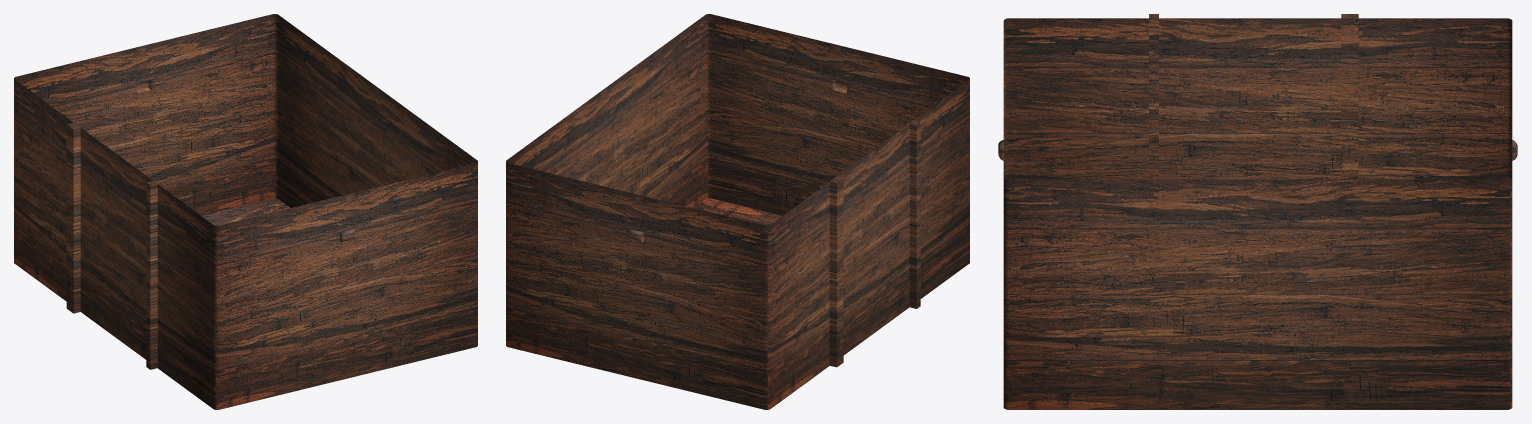
File: baul_cuerpo.obj
The picture shows the model from 3 angles, left to right: view 1: azimuth 30°, elevation 25°; view 2: azimuth 150°, elevation 25°; view 3: azimuth 270°, elevation 25°; orthographic projection. The views are drawn at different scales.
Parts seen in each view (by area): view 1: Box001; view 2: Box001; view 3: Box001.
Boxes of the visible parts, <box> form: Box001: <box>14,14,477,409</box>; Box001: <box>506,14,969,409</box>; Box001: <box>998,14,1517,409</box>.
Bounding box in the file's own units: 1.64 × 1.06 × 2.17.
